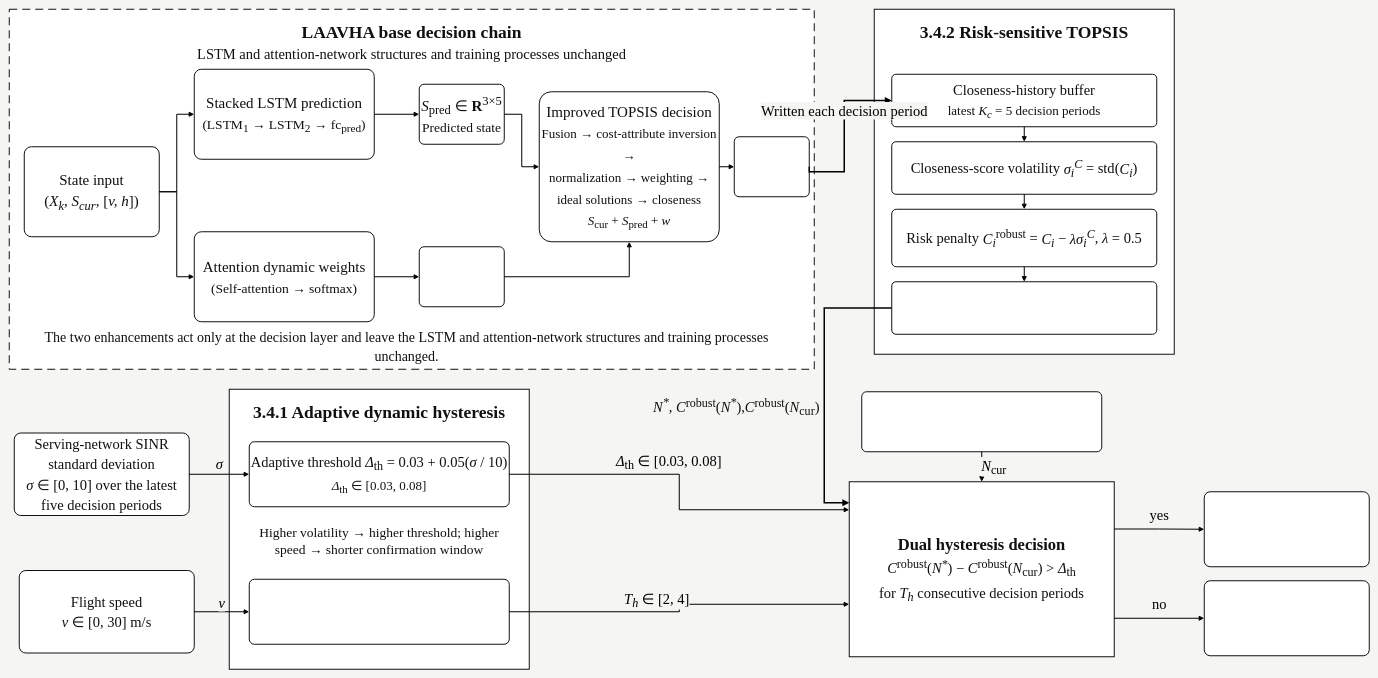
Image size: 1378x678. Some labels were removed from this diagram. Here are the shapes that lost their labels. From the top down, the centre of each, then its label:
(x=772, y=166): C i ∈ [0, 1] Closeness coefficient
(x=461, y=276): w ∈ R 5 Dynamic weights
(x=1024, y=307): Robust candidate ranking N * = arg max i C i robust
(x=981, y=421): Current serving network N cur
(x=1287, y=529): Switch to N * (target network identifier)
(x=379, y=611): Adaptive confirmation window T h = max(2, ⌊4 − 2 v / 30⌋) T h ∈ [2, 4]
(x=1287, y=618): Keep N cur (no handover)
